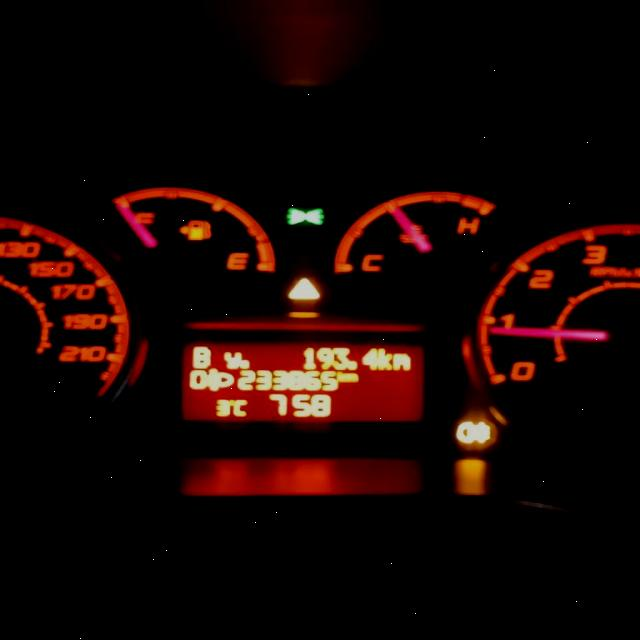odometer: (172, 336, 430, 426)
